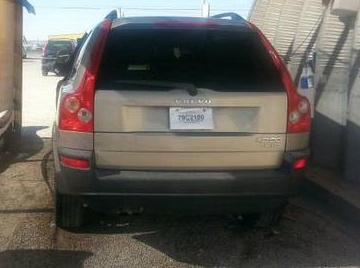volvo: (19, 10, 327, 234)
